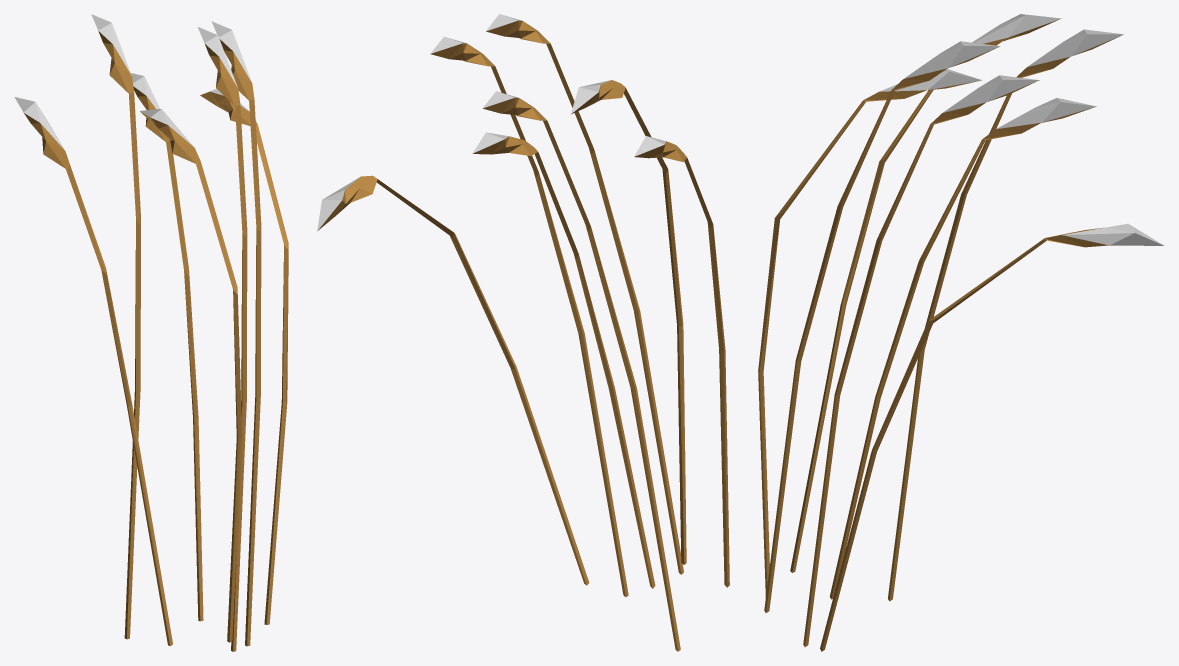
Rendered from foliage_hay.fbx.
3 views of the same model, side by side, from view 1: azimuth 30°, elevation 25°; view 2: azimuth 150°, elevation 25°; view 3: azimuth 270°, elevation 25° (orthographic). The views are drawn at different scales.
Parts seen in each view (by area): view 1: hay_LOD0; view 2: hay_LOD0; view 3: hay_LOD0.
Boxes of the visible parts, x1=… form: hay_LOD0: x1=14, y1=14, x2=288, y2=651; hay_LOD0: x1=317, y1=14, x2=729, y2=651; hay_LOD0: x1=758, y1=14, x2=1164, y2=651.
Size of what is drawn, in the model's own units: 28.68 by 60.05 by 35.57.
